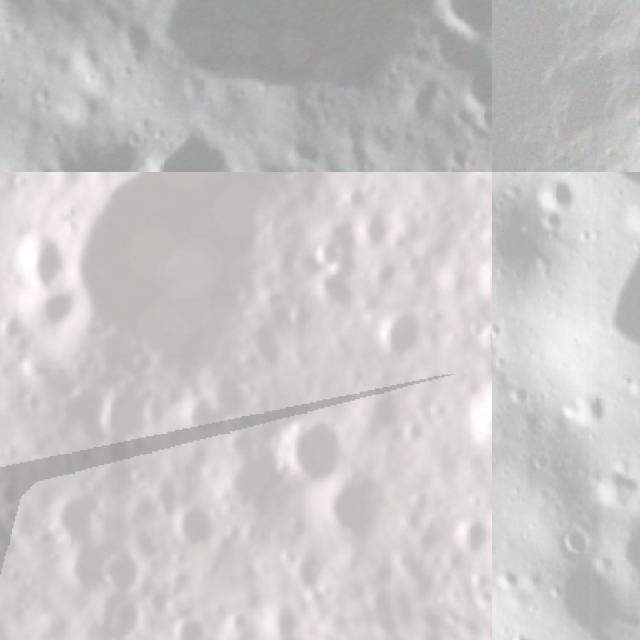crater: (10, 172, 372, 409), (41, 0, 476, 104), (260, 399, 363, 508), (525, 550, 631, 640), (320, 465, 404, 550), (90, 377, 170, 460), (137, 116, 237, 172), (19, 134, 160, 172), (0, 224, 69, 298), (370, 300, 434, 372), (19, 285, 87, 352), (38, 488, 105, 554), (592, 499, 640, 591), (410, 12, 481, 71), (164, 494, 224, 563), (532, 172, 606, 225), (452, 382, 492, 476), (58, 542, 120, 601), (354, 382, 411, 446), (169, 394, 226, 452), (278, 550, 332, 607), (344, 208, 398, 262), (199, 370, 251, 425), (441, 512, 492, 567), (96, 547, 148, 599), (95, 593, 152, 640), (449, 53, 492, 108), (90, 463, 140, 508), (427, 0, 492, 34), (565, 389, 613, 431), (163, 610, 222, 640), (281, 128, 328, 163), (259, 605, 302, 640), (121, 348, 162, 384), (0, 590, 29, 640), (467, 312, 492, 369), (115, 17, 152, 55), (313, 234, 347, 274), (116, 619, 179, 640), (22, 150, 60, 172)
